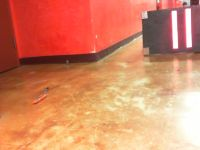switch: (184, 8, 193, 47), (171, 10, 179, 49)
